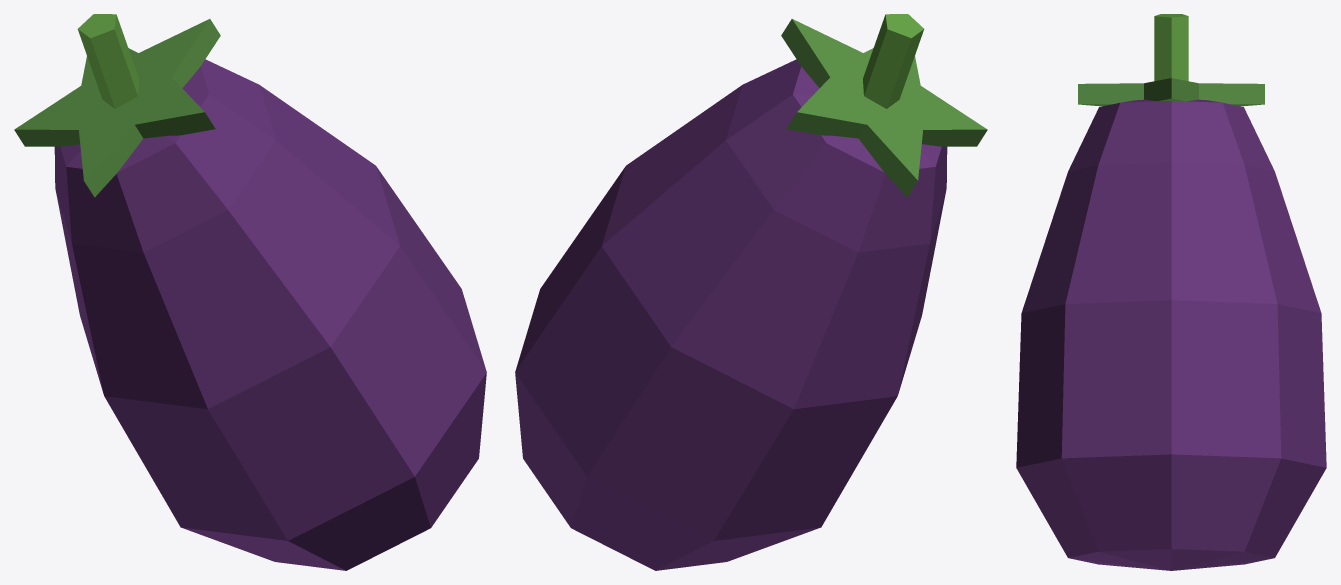
Rendered from Food_Eggplant.obj.
3 renders of one model, left to right at view 1: azimuth 30°, elevation 25°; view 2: azimuth 150°, elevation 25°; view 3: azimuth 270°, elevation 25°, orthographic. The views are drawn at different scales.
Size of the model in its own units: 1.53 by 2.07 by 1.2.
